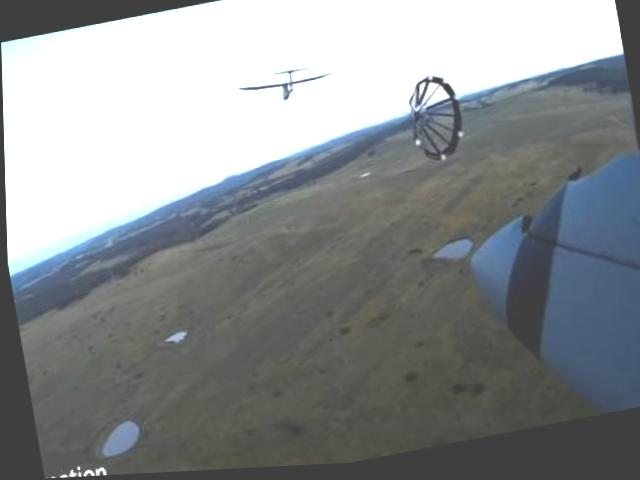uav: (235, 62, 339, 112)
